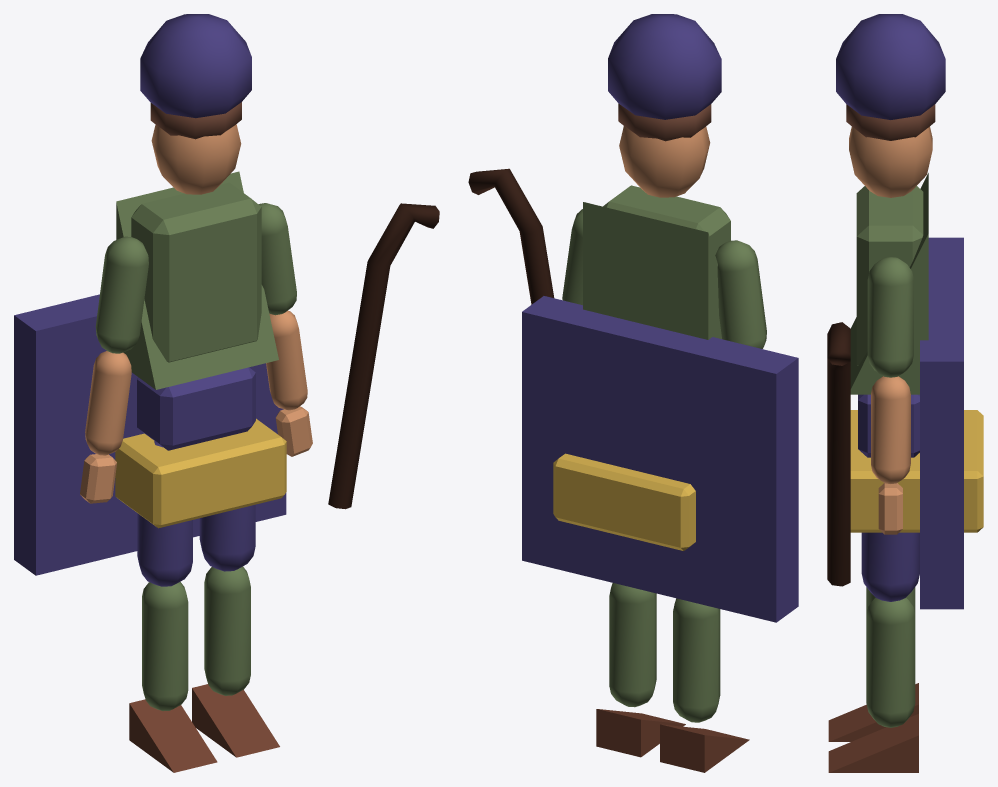
Rendered from adventurer.rustic.glb.
The picture shows the model from 3 angles, left to right: view 1: azimuth 30°, elevation 25°; view 2: azimuth 150°, elevation 25°; view 3: azimuth 270°, elevation 25°; orthographic projection.
Visible parts, largest first — view 1: accessory.back, torso, accessory.waist, accessory.head, accessory.main-hand, pelvis, tunic, shin.left, shin.right, upper-arm.left, head, foot.left (+9 smaller); view 2: accessory.back, tunic, accessory.head, accessory.waist, shin.right, shin.left, head, upper-arm.left, accessory.main-hand, torso, foot.left, foot.right (+2 smaller); view 3: accessory.back, accessory.head, accessory.main-hand, accessory.waist, shin.right, torso, upper-arm.right, head, forearm.right, thigh.right, foot.right, tunic (+4 smaller).
Part boxes in pixels (<box>): accessory.back: <box>14,294,286,575</box>; torso: <box>131,182,261,362</box>; accessory.waist: <box>115,418,286,528</box>; accessory.head: <box>140,14,251,118</box>; accessory.main-hand: <box>328,203,439,509</box>; pelvis: <box>137,367,255,450</box>; tunic: <box>116,171,278,389</box>; shin.left: <box>142,581,188,711</box>; shin.right: <box>204,566,250,695</box>; upper-arm.left: <box>95,236,148,353</box>; head: <box>151,124,241,194</box>; foot.left: <box>129,699,217,772</box>; accessory.back: <box>522,296,798,622</box>; tunic: <box>583,202,721,339</box>; accessory.head: <box>608,14,721,119</box>; accessory.waist: <box>553,453,695,550</box>; shin.right: <box>609,583,656,707</box>; shin.left: <box>673,598,720,722</box>; head: <box>619,126,710,197</box>; upper-arm.left: <box>715,240,766,348</box>; accessory.main-hand: <box>468,168,554,304</box>; torso: <box>603,185,730,254</box>; foot.left: <box>660,724,749,772</box>; foot.right: <box>596,709,685,757</box>; accessory.back: <box>920,237,963,609</box>; accessory.head: <box>836,14,945,119</box>; accessory.main-hand: <box>827,322,850,586</box>; accessory.waist: <box>850,410,983,532</box>; shin.right: <box>866,597,915,727</box>; torso: <box>856,186,923,365</box>; upper-arm.right: <box>867,257,913,377</box>; head: <box>849,126,932,197</box>; forearm.right: <box>871,376,910,483</box>; thigh.right: <box>861,532,919,601</box>; foot.right: <box>828,714,918,772</box>; tunic: <box>850,173,928,394</box>.
Size of the model in its own units: 1.73 by 3.29 by 0.64.
